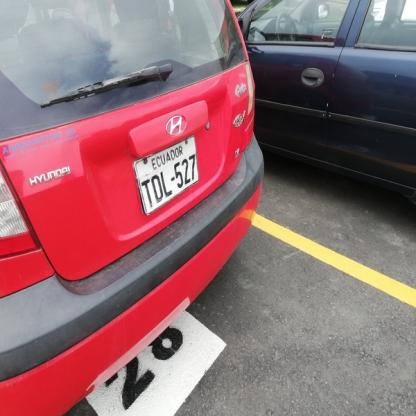Placa: (122, 132, 208, 223)
